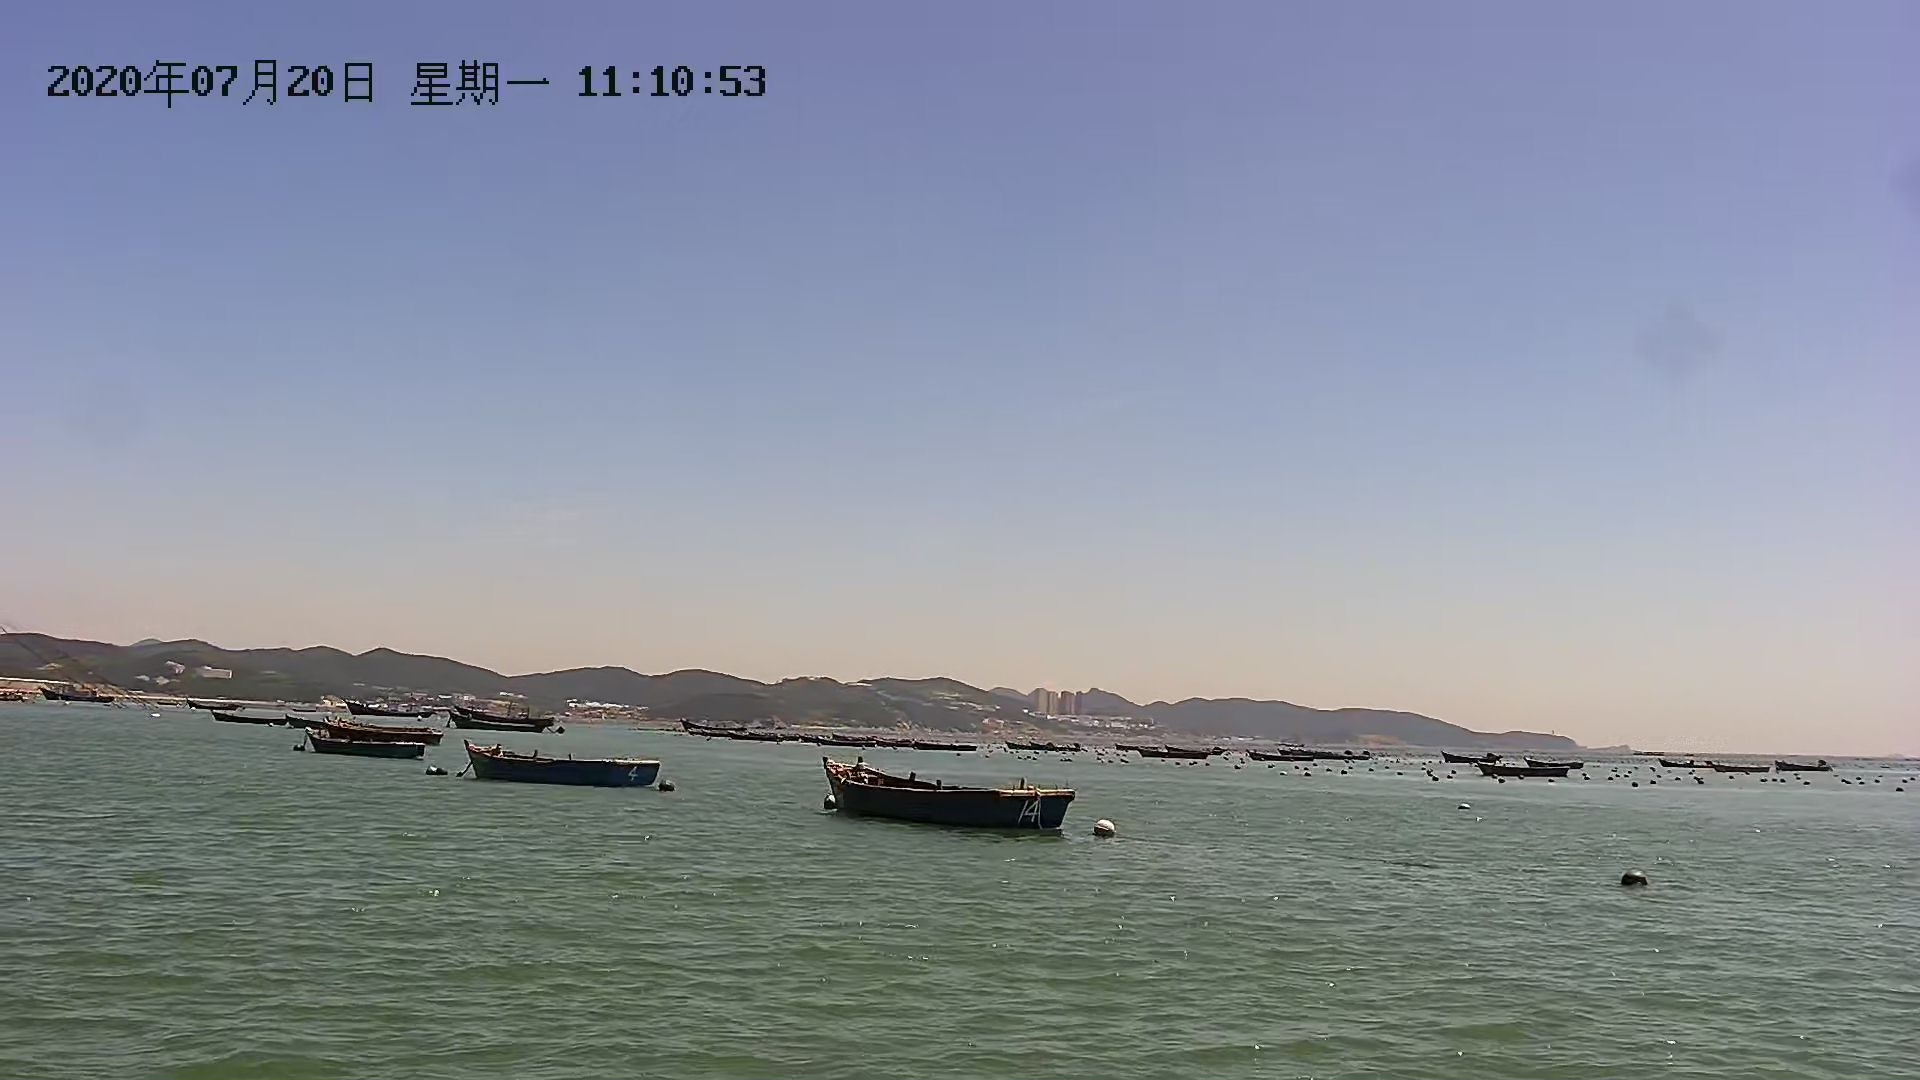ball: (1084, 815, 1134, 843), (1617, 868, 1658, 894), (418, 757, 456, 779), (659, 781, 676, 791)
boat: (818, 760, 1095, 833), (464, 738, 663, 790), (295, 735, 425, 761), (319, 717, 444, 742), (215, 709, 318, 731)
